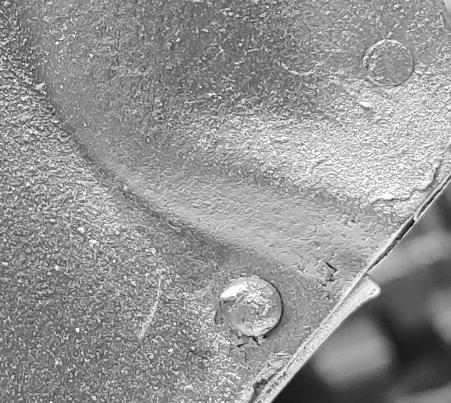dent: (1, 1, 451, 403)
